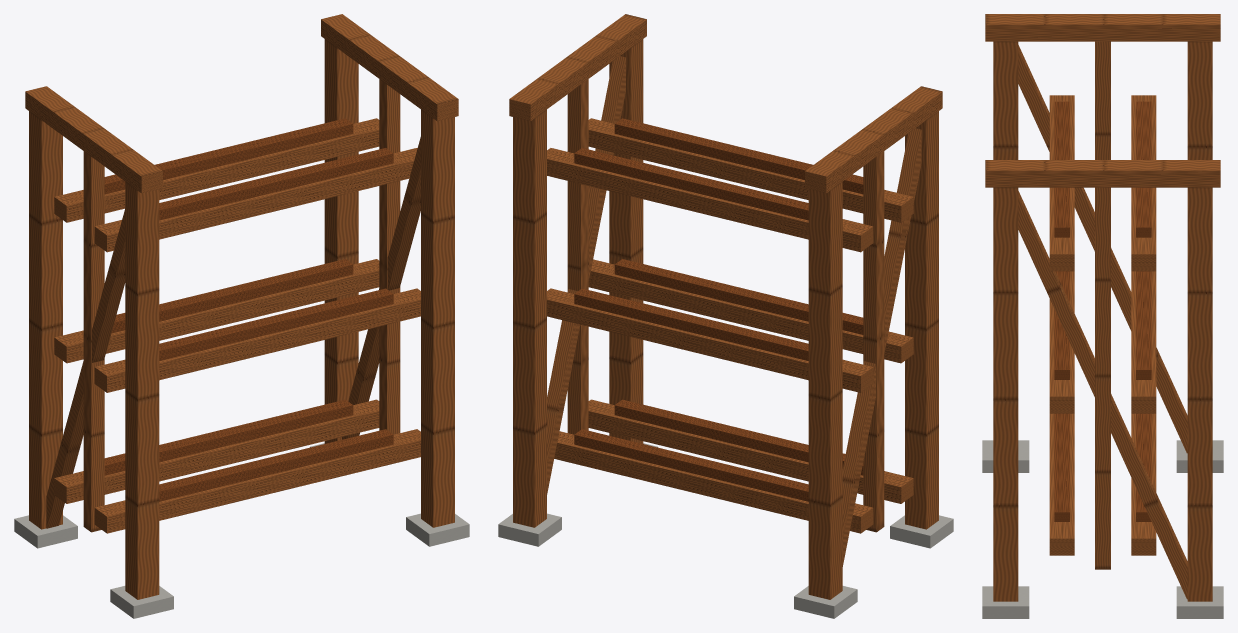
Rendered from distillery-and-bonded-warehouse-cask-rack-tall-b8598344__38693.glb.
The picture shows the model from 3 angles, left to right: view 1: azimuth 30°, elevation 25°; view 2: azimuth 150°, elevation 25°; view 3: azimuth 270°, elevation 25°; orthographic projection.
Visible parts, largest first — view 1: cask-rack-tall-timber, cask-rack-tall-oak, cask-rack-tall-stone; view 2: cask-rack-tall-timber, cask-rack-tall-oak, cask-rack-tall-stone; view 3: cask-rack-tall-timber, cask-rack-tall-oak, cask-rack-tall-stone.
Part boxes in pixels (<box>): cask-rack-tall-timber: <box>25,14,458,599</box>; cask-rack-tall-oak: <box>104,118,393,501</box>; cask-rack-tall-stone: <box>14,443,469,618</box>; cask-rack-tall-timber: <box>509,14,942,599</box>; cask-rack-tall-oak: <box>574,118,863,501</box>; cask-rack-tall-stone: <box>498,443,953,618</box>; cask-rack-tall-timber: <box>985,14,1220,601</box>; cask-rack-tall-oak: <box>1054,101,1151,521</box>; cask-rack-tall-stone: <box>982,440,1223,618</box>.
Bounding box in the file's own units: 2.5 × 3.14 × 1.54.
Materials: 3 (3 with a texture image).
